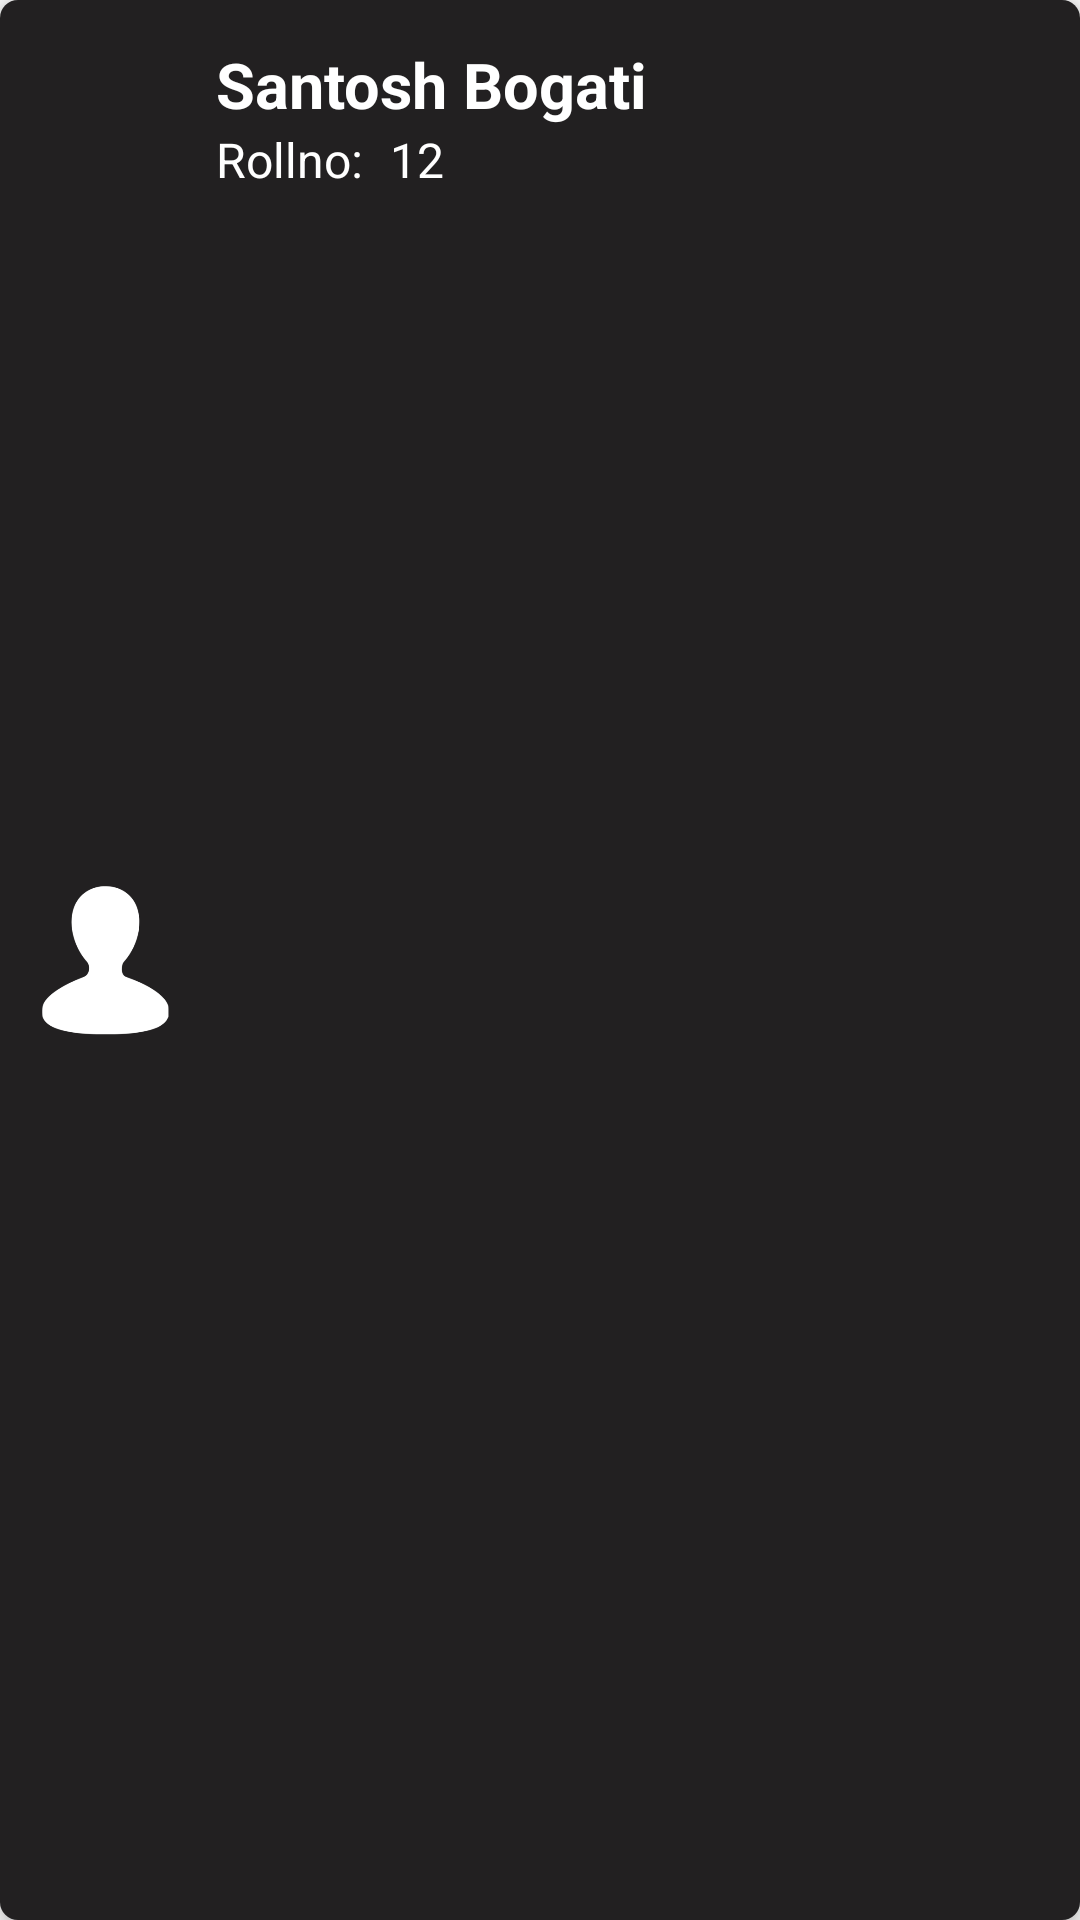

Icons on this 1080px x 1920px Android screen, each with its box as {"x1": x1, "y1": y1, "x2": x2, "y2": y2}:
user: {"x1": 42, "y1": 886, "x2": 169, "y2": 1035}
